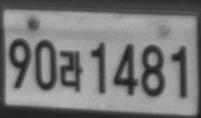0: (34, 38, 57, 90)
1: (167, 44, 195, 98), (87, 40, 112, 94)
4: (112, 42, 139, 96)
8: (140, 43, 166, 98)
9: (7, 37, 32, 89)
라: (58, 50, 83, 93)
